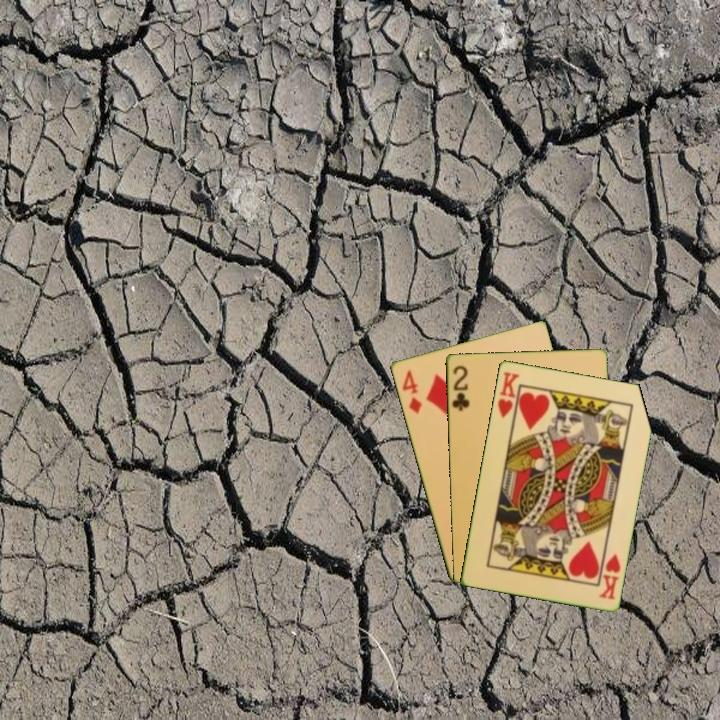2c: (448, 362, 472, 414)
4d: (398, 366, 425, 417)
Kh: (494, 368, 522, 425), (595, 550, 623, 602)
